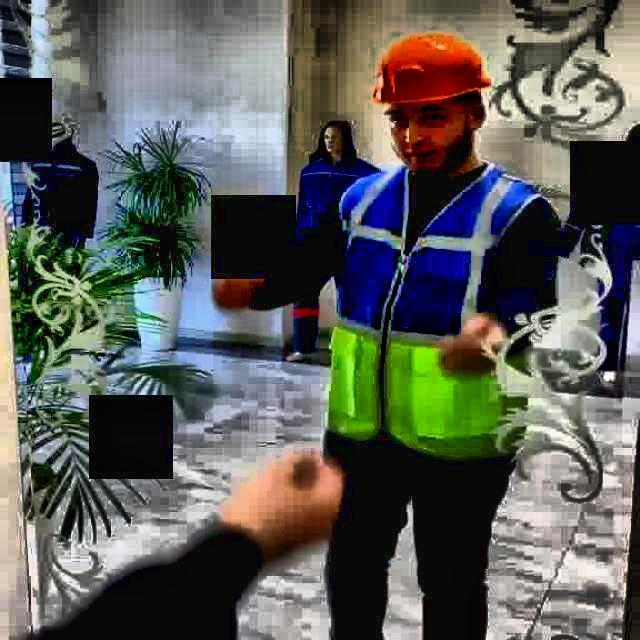safety_helmet: (373, 33, 493, 105)
safety_jacket: (323, 160, 544, 464)
